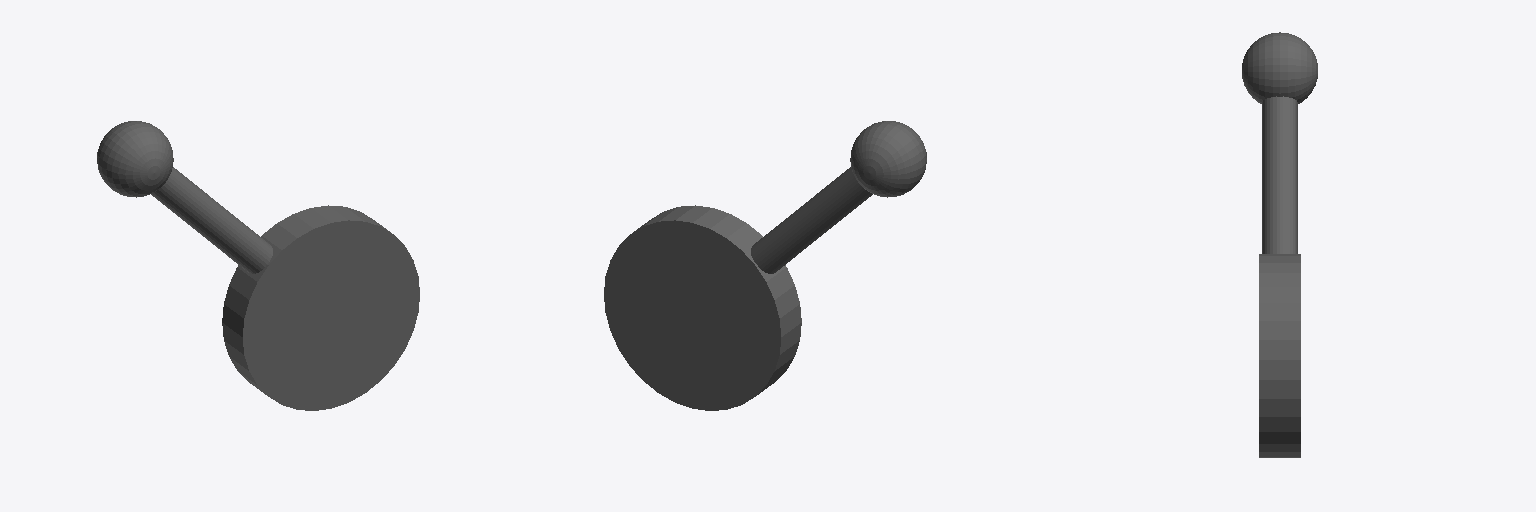
Rendered from lever_test.obj.
3 views of the same model, side by side, from view 1: azimuth 30°, elevation 25°; view 2: azimuth 150°, elevation 25°; view 3: azimuth 270°, elevation 25° (orthographic).
Visible parts, largest first — view 1: Lever1_Cylinder.002; view 2: Lever1_Cylinder.002; view 3: Lever1_Cylinder.002.
Part boxes in pixels (bbox=[...]): Lever1_Cylinder.002: bbox=[97, 121, 419, 410]; Lever1_Cylinder.002: bbox=[604, 121, 926, 410]; Lever1_Cylinder.002: bbox=[1242, 32, 1317, 457].
Size of the model in its own units: 0.2438 by 0.2438 by 0.0527.